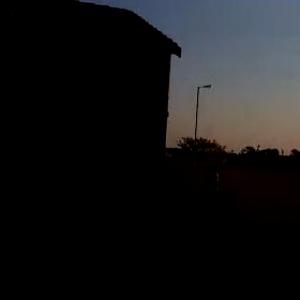follow: (185, 160, 240, 299)
